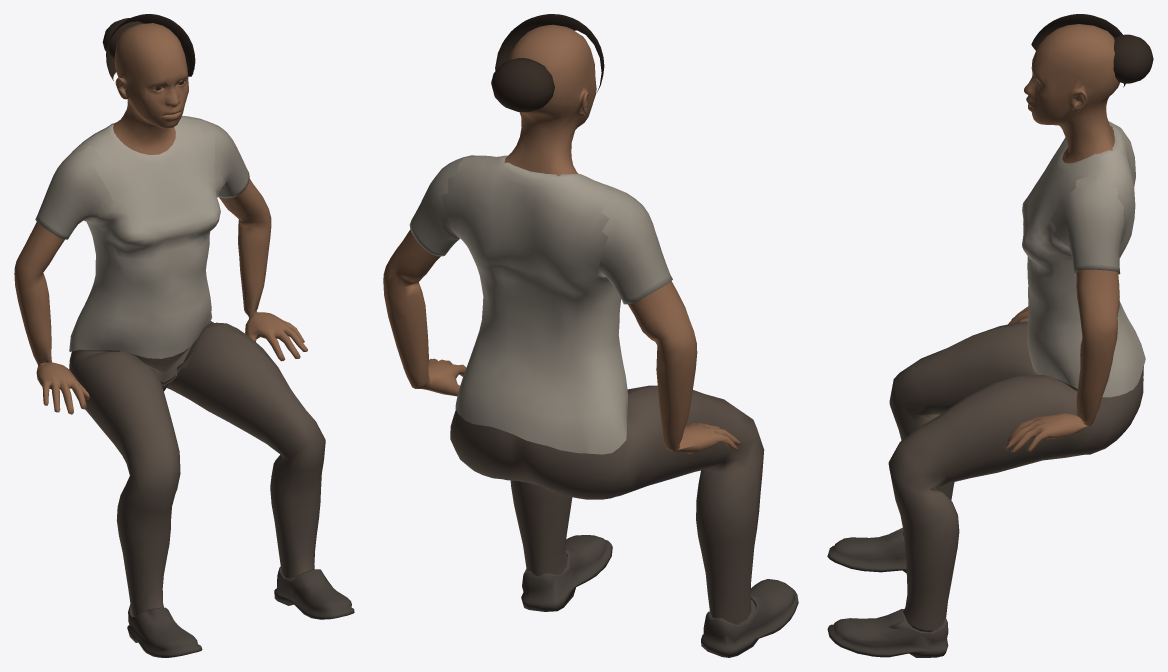
Rendered from participant-05-middle.glb.
3 views of the same model, side by side, from view 1: azimuth 30°, elevation 25°; view 2: azimuth 150°, elevation 25°; view 3: azimuth 270°, elevation 25° (orthographic). The views are drawn at different scales.
Parts seen in each view (by area): view 1: Participant anatomy and ordinary clothes; view 2: Participant anatomy and ordinary clothes; view 3: Participant anatomy and ordinary clothes.
Boxes of the visible parts, bbox=[...] form: Participant anatomy and ordinary clothes: bbox=[14, 14, 354, 657]; Participant anatomy and ordinary clothes: bbox=[383, 14, 798, 657]; Participant anatomy and ordinary clothes: bbox=[827, 14, 1153, 657].
Size of the model in its own units: 0.7276 by 1.46 by 0.7301.
